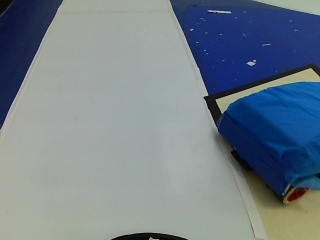car: (220, 61, 318, 211)
